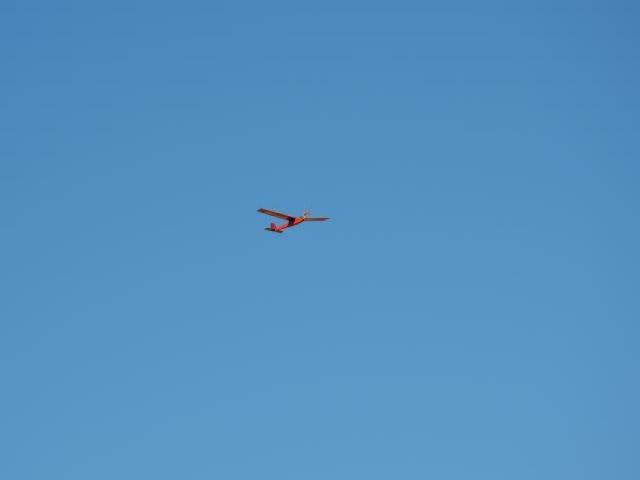iha: (256, 208, 336, 235)
